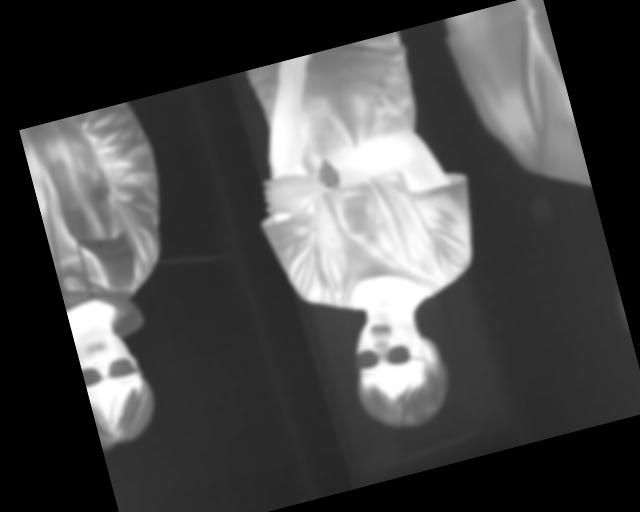face: (338, 299, 455, 439), (73, 320, 164, 453)
